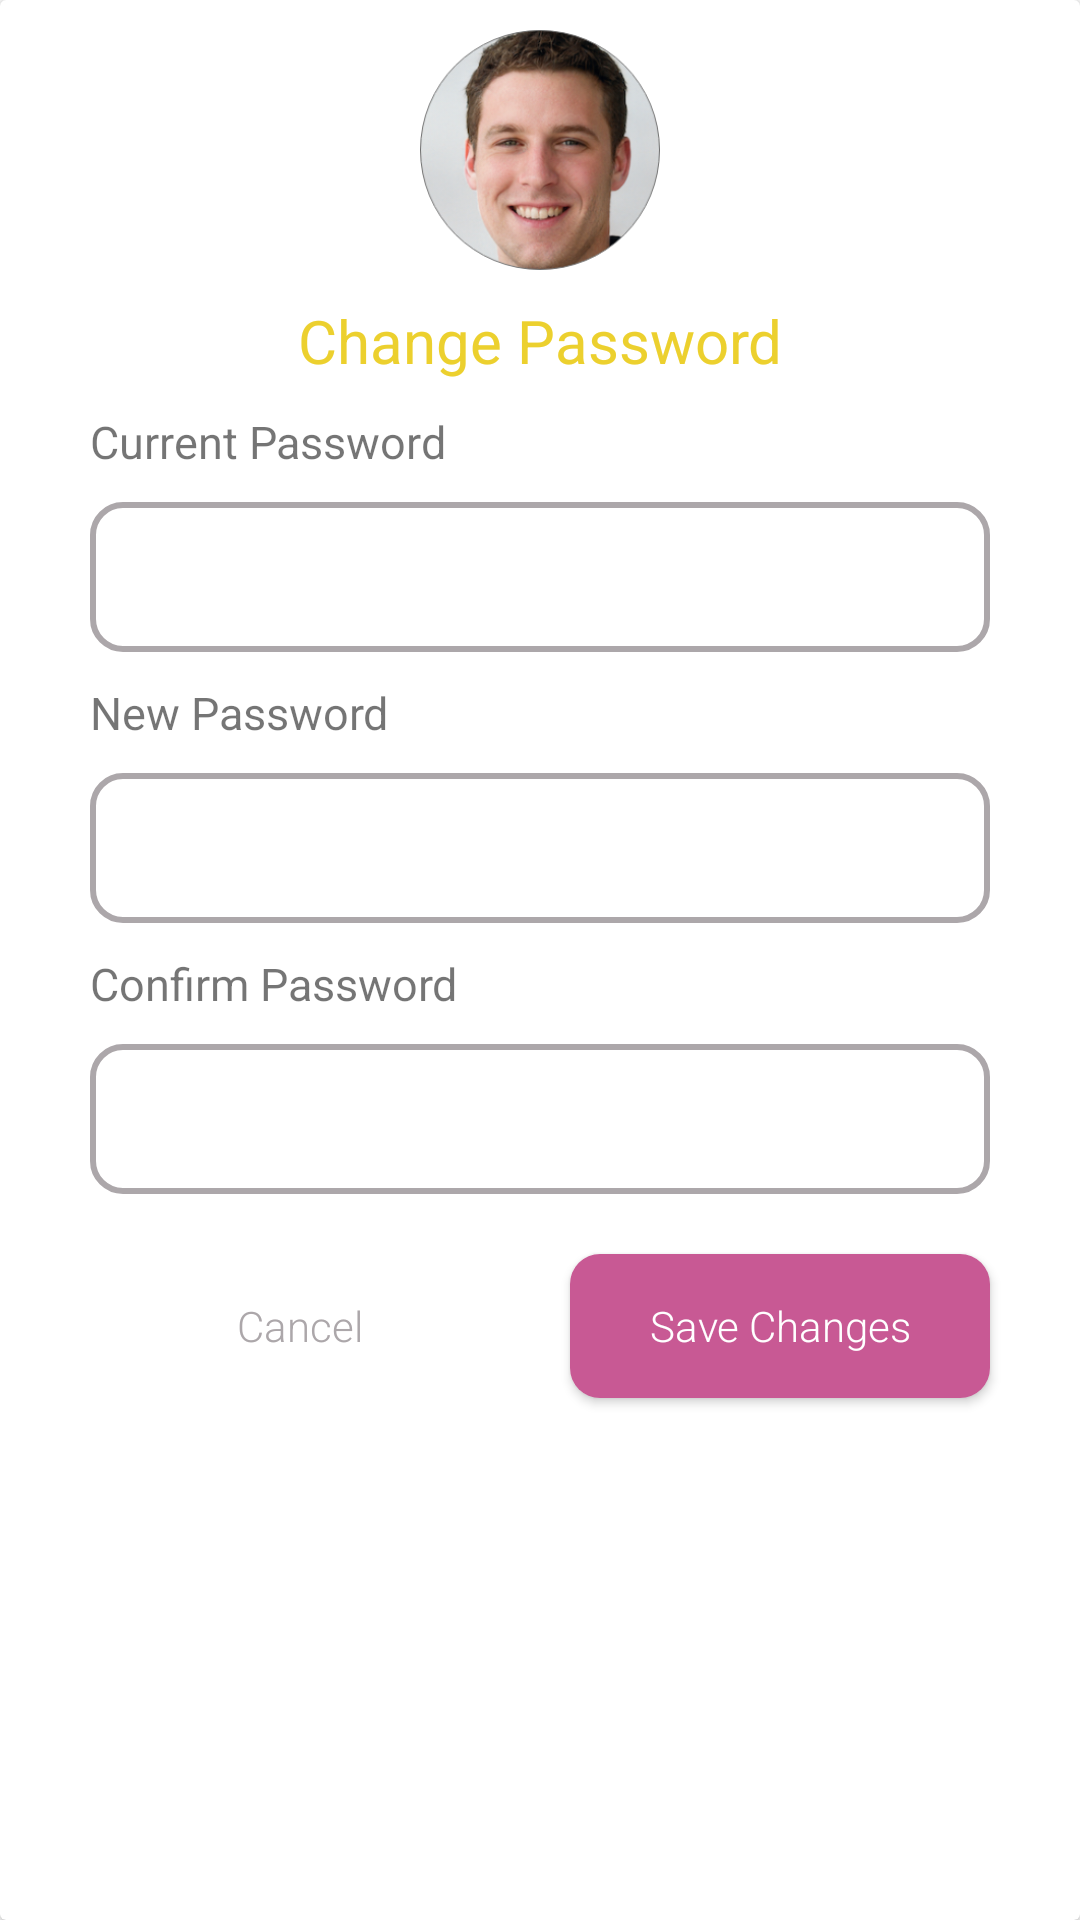

Screen size 1080*1920. Icon name, then its box in pixels as (x1, y1, x2, y2):
user: (420, 30, 660, 270)
